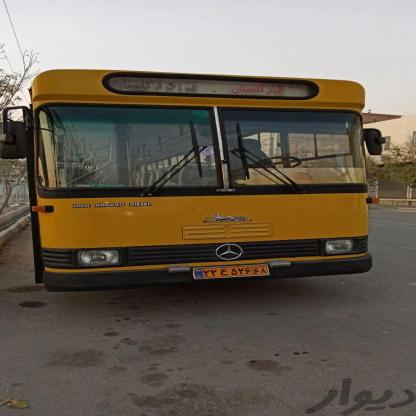Bus: (1, 63, 391, 287)
